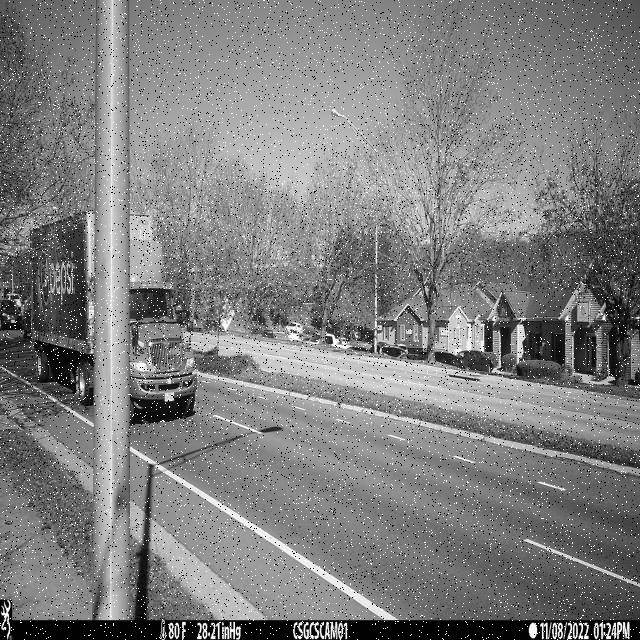Tractor Trailer: (129, 215, 197, 427), (30, 210, 96, 407)
